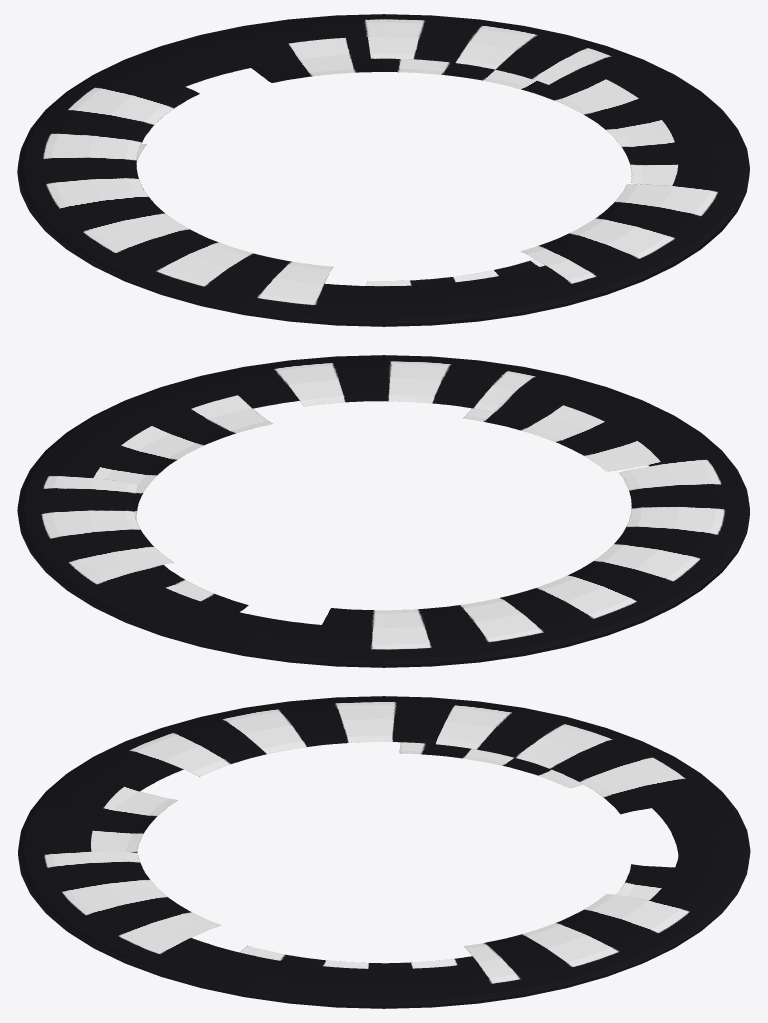
Rendered from racing_hoop_gate.dae.
3 renders of one model, top to bottom at view 1: azimuth 30°, elevation 25°; view 2: azimuth 150°, elevation 25°; view 3: azimuth 270°, elevation 25°, orthographic.
Parts seen in each view (by area): view 1: Torus; view 2: Torus; view 3: Torus.
Boxes of the visible parts, x1,y1,x2,y2 form: Torus: [17, 14, 749, 326]; Torus: [17, 355, 749, 667]; Torus: [18, 696, 750, 1008].
Size of the model in its own units: 5 by 5 by 0.125.
Materials: 1 (1 with a texture image).
